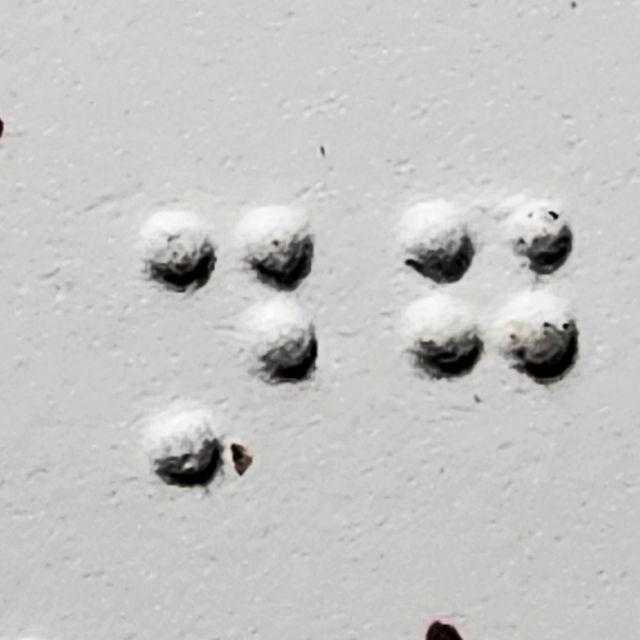g: (396, 200, 581, 483)
n: (134, 206, 319, 489)
